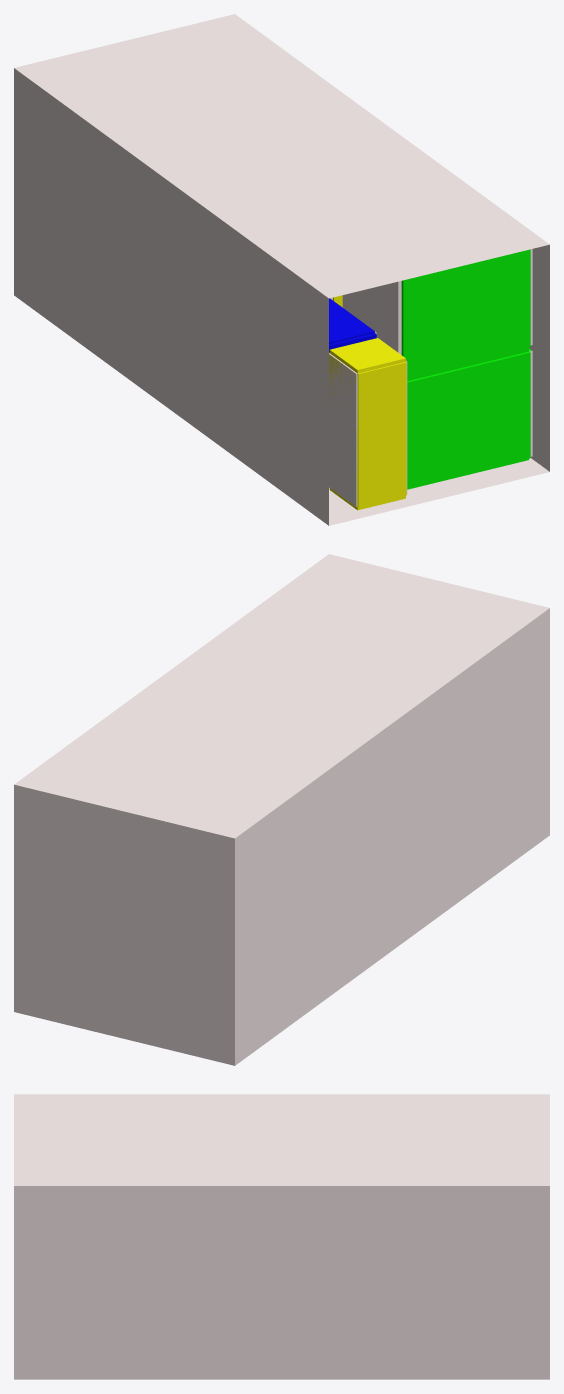
Rendered from boxes30v2.fbx.
The picture shows the model from 3 angles, top to bottom: view 1: azimuth 30°, elevation 25°; view 2: azimuth 150°, elevation 25°; view 3: azimuth 270°, elevation 25°; orthographic projection. The views are drawn at different scales.
Visible parts, largest first — view 1: bintop, BinIso20Bottom, binleft, front_3, front_4, front_20, binbottom, top_20, top_18; view 2: BinIso20Bottom, bintop, binback; view 3: BinIso20Bottom, binright, bintop.
Part boxes in pixels (box(x1,y1,x2,y2)): bintop: box(14, 14, 549, 298); BinIso20Bottom: box(14, 74, 549, 525); binleft: box(14, 68, 324, 515); front_3: box(407, 351, 530, 488); front_4: box(401, 249, 530, 376); front_20: box(357, 362, 406, 507); binbottom: box(329, 458, 549, 525); top_20: box(329, 338, 405, 373); top_18: box(329, 298, 374, 343); BinIso20Bottom: box(235, 608, 549, 1065); bintop: box(14, 554, 549, 838); binback: box(14, 784, 234, 1065); BinIso20Bottom: box(14, 1186, 549, 1379); binright: box(14, 1192, 549, 1379); bintop: box(14, 1094, 549, 1185).
Size of the model in its own units: 2390 by 2350 by 5900.
